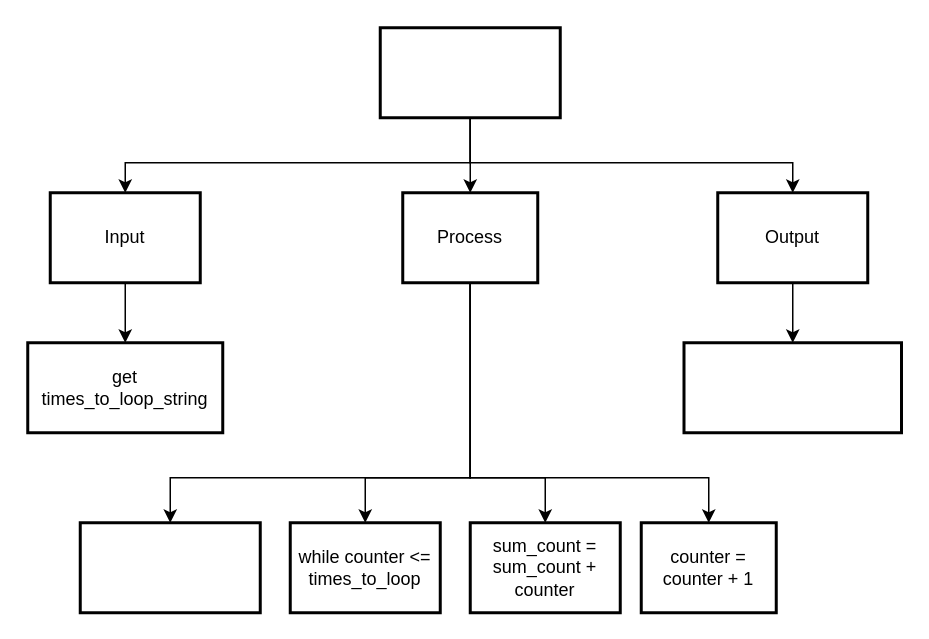
Some shapes in this 929 by 639 pixel diagram are drawn without their labels. The shapes that lost their labels are listed below. From the top down, each one's centre as x and y in pixels, then its label:
At point 469,72: "sequential_adding".
At point 792,387: "show The sum of all sequential numbers preceding times_to_loop is sum_count.".
At point 169,567: "convert times_to_loop_string to an integer".
